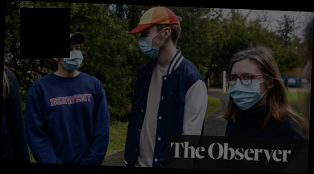with_mask: (226, 70, 265, 113), (58, 43, 85, 71), (138, 30, 162, 60)
